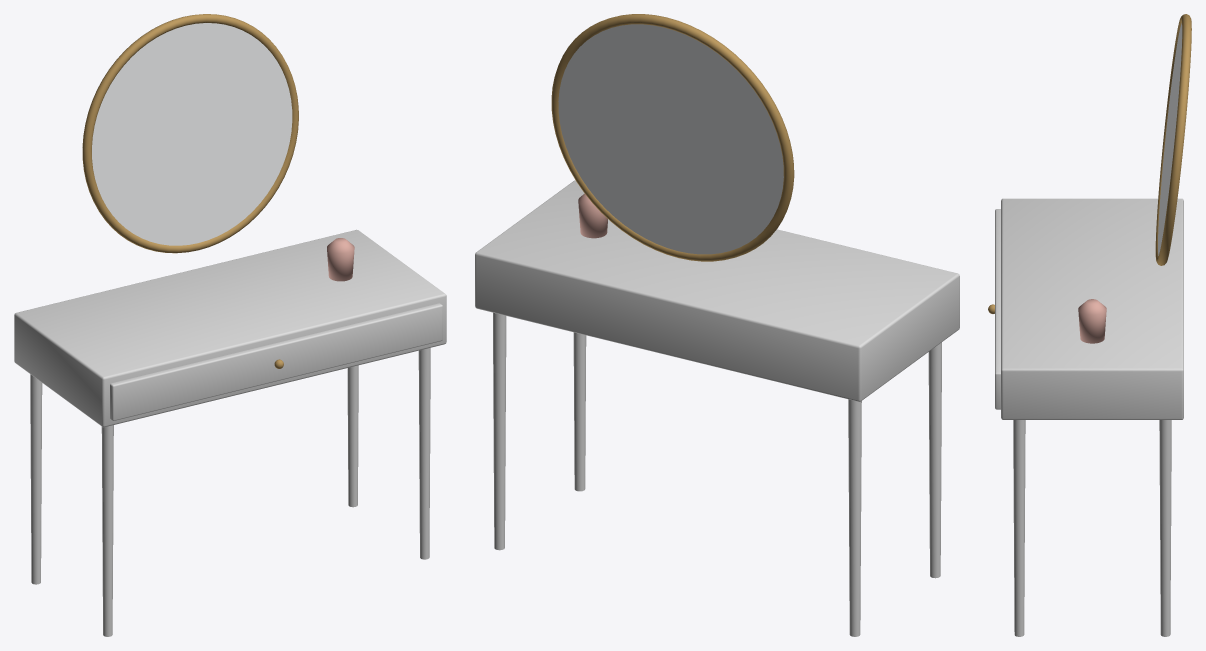
File: toucador.glb
3 views of the same model, side by side, from view 1: azimuth 30°, elevation 25°; view 2: azimuth 150°, elevation 25°; view 3: azimuth 270°, elevation 25° (orthographic). The views are drawn at different scales.
Parts seen in each view (by area): view 1: p; view 2: p; view 3: p.
Part boxes in pixels (left/top/right/bottom): p: left=14, top=14, right=446, bottom=636; p: left=475, top=14, right=959, bottom=636; p: left=988, top=14, right=1191, bottom=636.
Size of the model in its own units: 1 by 1.44 by 0.5015.
